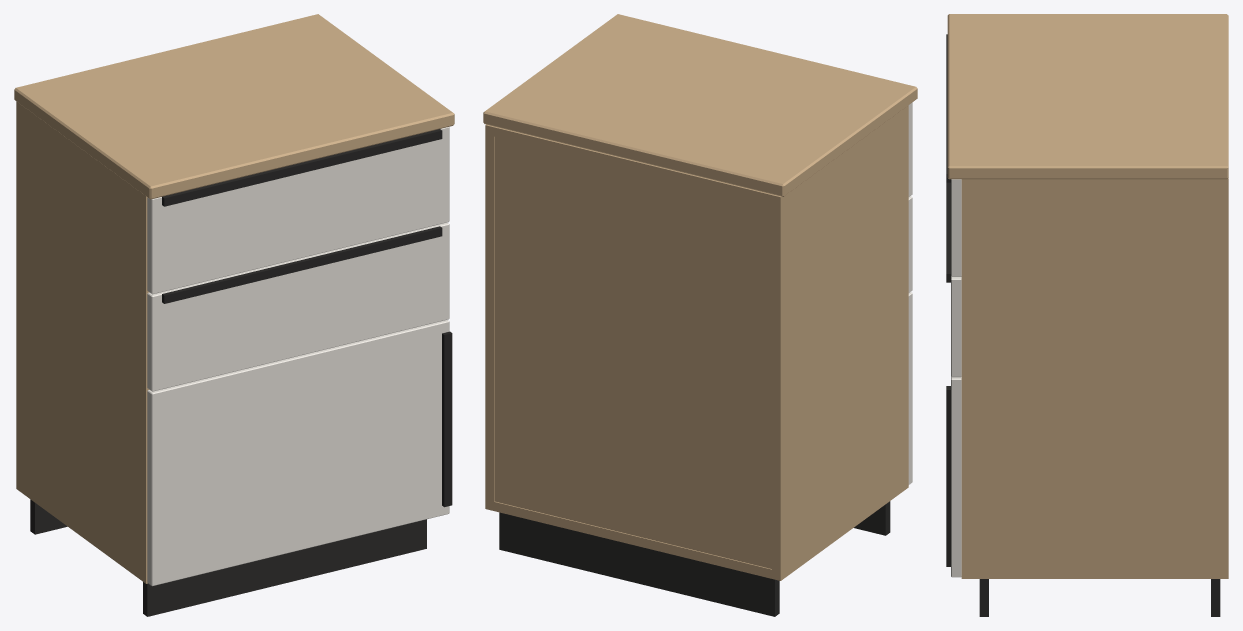
File: 44_komoda_60_d_2sz.glb
3 views of the same model, side by side, from view 1: azimuth 30°, elevation 25°; view 2: azimuth 150°, elevation 25°; view 3: azimuth 270°, elevation 25° (orthographic). The views are drawn at different scales.
Parts seen in each view (by area): view 1: Front_drzwi_3, Korpus, Wierzch, Front_szuflada_2, Front_szuflada_1, Cokol, Uchwyty; view 2: Korpus, Wierzch, Cokol, Front_drzwi_3; view 3: Korpus, Wierzch, Front_drzwi_3, Uchwyty, Front_szuflada_2, Front_szuflada_1, Cokol.
Part boxes in pixels (left/top/right/bottom): Front_drzwi_3: left=147, top=320, right=449, bottom=586; Korpus: left=16, top=101, right=149, bottom=583; Wierzch: left=14, top=14, right=454, bottom=199; Front_szuflada_2: left=147, top=222, right=449, bottom=391; Front_szuflada_1: left=147, top=127, right=449, bottom=294; Cokol: left=30, top=499, right=426, bottom=616; Uchwyty: left=162, top=129, right=452, bottom=507; Korpus: left=485, top=105, right=908, bottom=580; Wierzch: left=483, top=14, right=917, bottom=196; Cokol: left=499, top=501, right=890, bottom=616; Front_drzwi_3: left=908, top=292, right=912, bottom=484; Korpus: left=961, top=178, right=1228, bottom=578; Wierzch: left=947, top=14, right=1228, bottom=179; Front_drzwi_3: left=951, top=376, right=961, bottom=577; Uchwyty: left=946, top=34, right=950, bottom=566; Front_szuflada_2: left=951, top=276, right=961, bottom=377; Front_szuflada_1: left=951, top=179, right=961, bottom=276; Cokol: left=979, top=579, right=1220, bottom=616.
Size of the model in its own units: 0.612 by 0.85 by 0.476.
